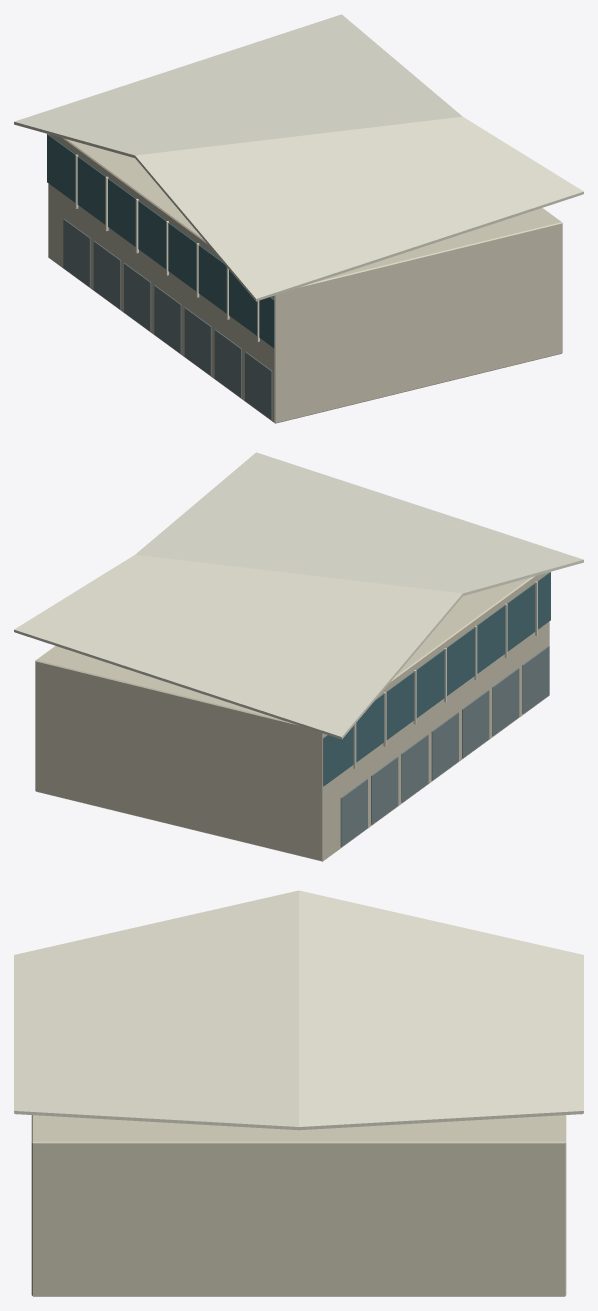
Rendered from ENV_Silverstone_WingModule_30m.glb.
3 renders of one model, top to bottom at view 1: azimuth 30°, elevation 25°; view 2: azimuth 150°, elevation 25°; view 3: azimuth 270°, elevation 25°, orthographic. The views are drawn at different scales.
Visible parts, largest first — view 1: ENV_Silverstone_WingModule_30m; view 2: ENV_Silverstone_WingModule_30m; view 3: ENV_Silverstone_WingModule_30m.
Part boxes in pixels (left/top/right/bottom): ENV_Silverstone_WingModule_30m: left=14, top=14, right=583, bottom=423; ENV_Silverstone_WingModule_30m: left=14, top=452, right=583, bottom=861; ENV_Silverstone_WingModule_30m: left=14, top=890, right=583, bottom=1296.
Size of the model in its own units: 25 by 14 by 32.
